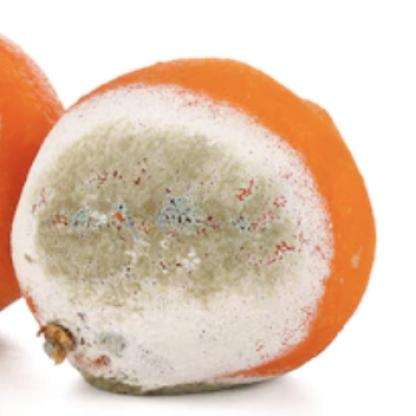rotten: (10, 57, 379, 396)
